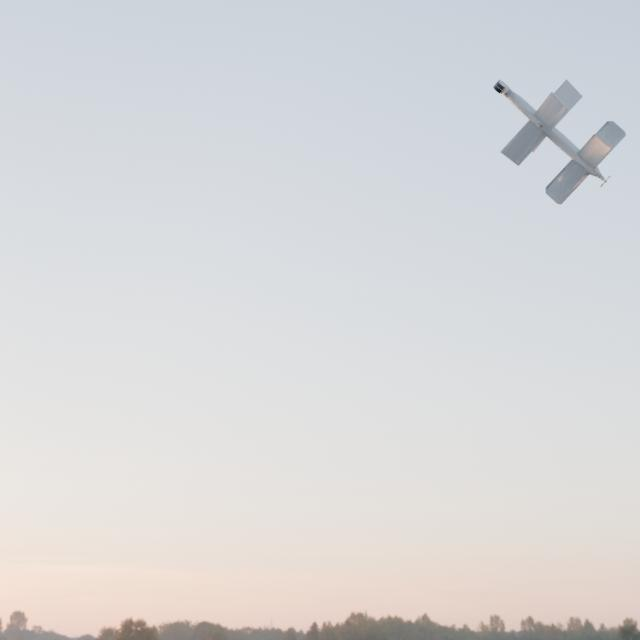Airaplan: (493, 79, 626, 205)
